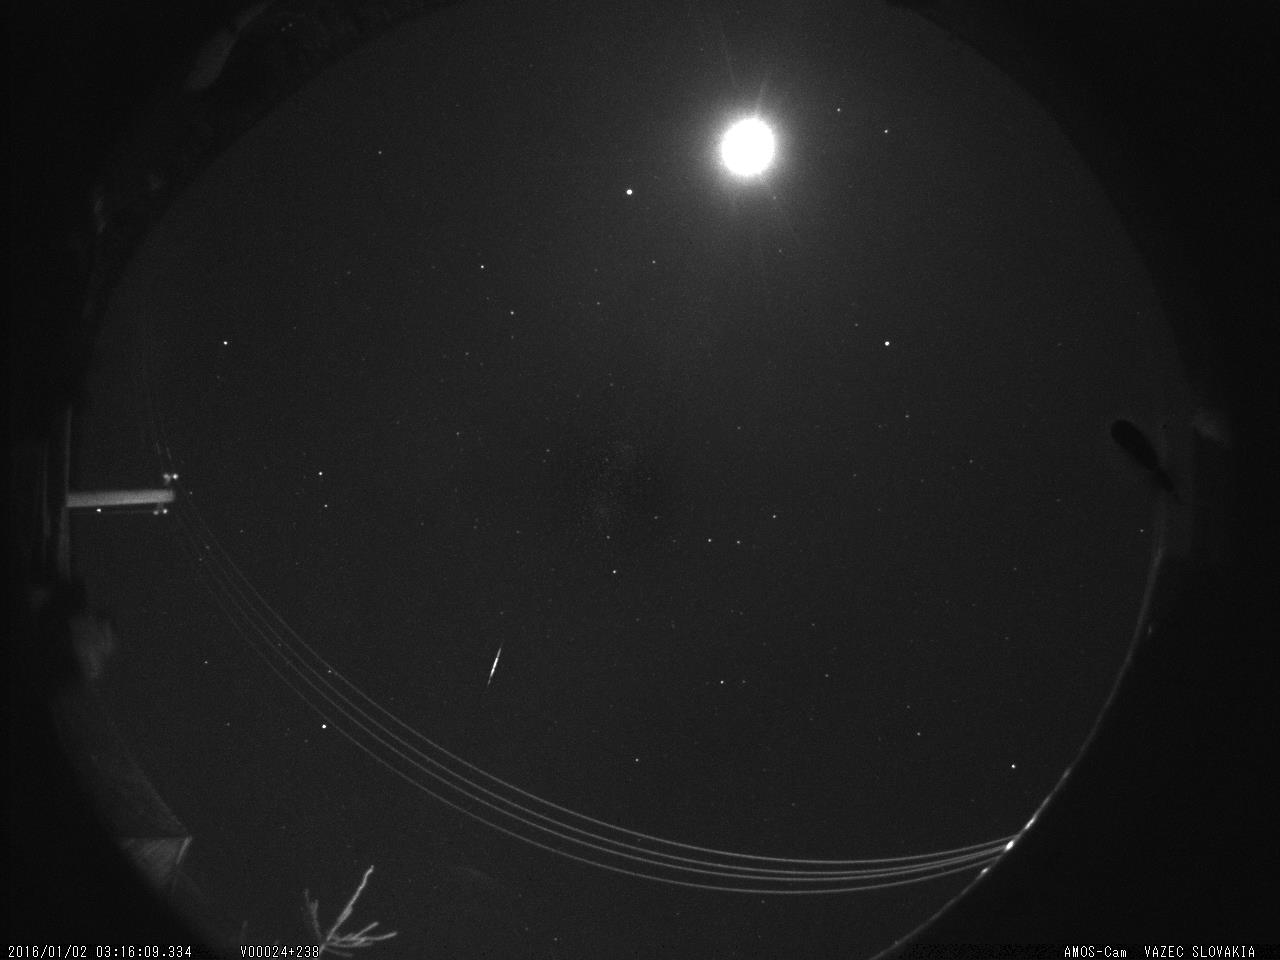meteor: (468, 633, 515, 693)
